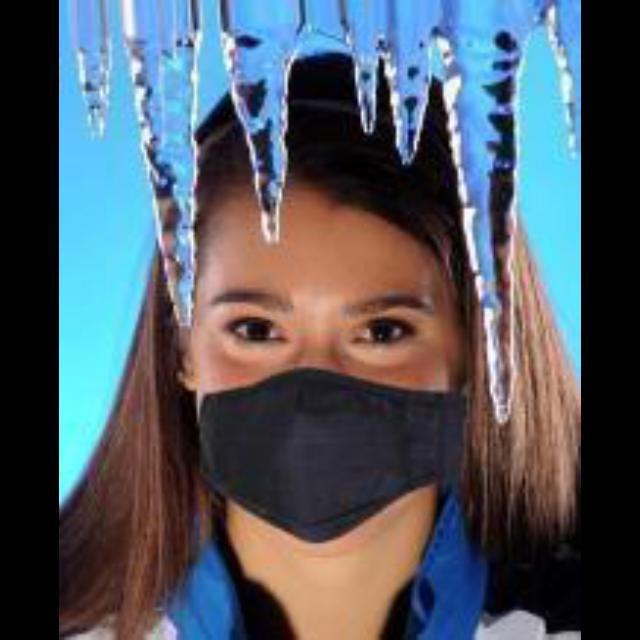suspicion: (81, 129, 541, 619)
